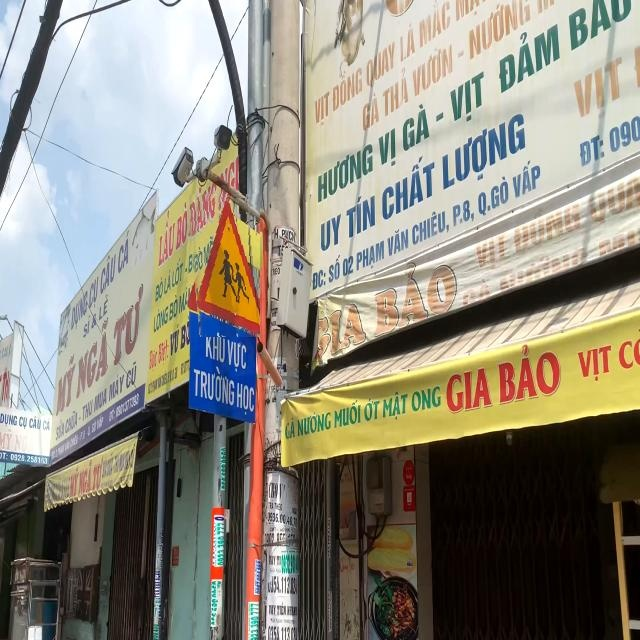bien_nguy_hiem: (188, 194, 262, 337)
